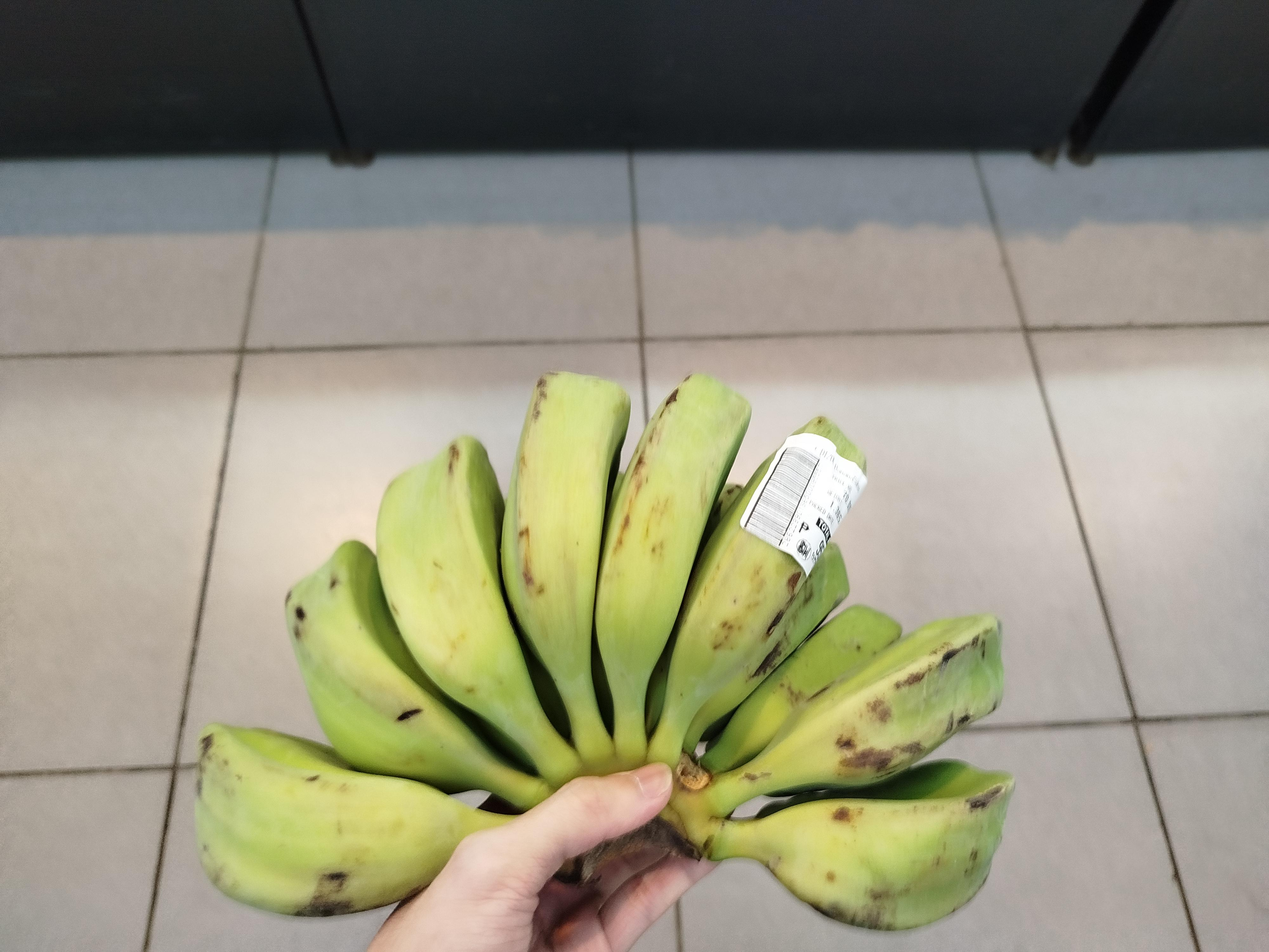underripe: (195, 373, 1014, 930)
